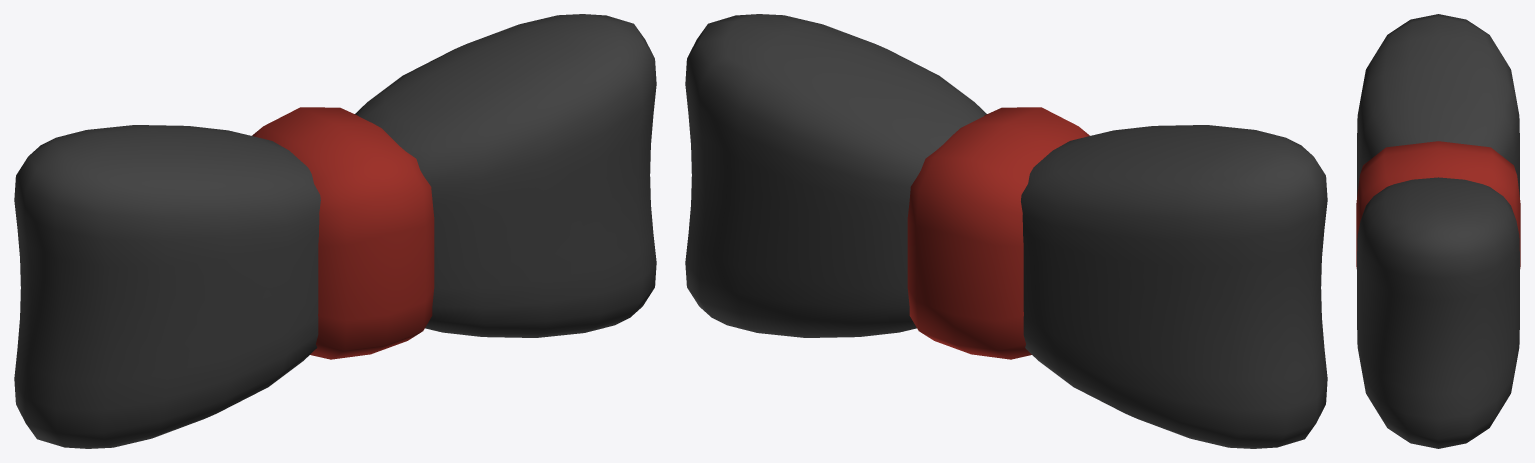
File: bow.fbx
3 renders of one model, left to right at view 1: azimuth 30°, elevation 25°; view 2: azimuth 150°, elevation 25°; view 3: azimuth 270°, elevation 25°, orthographic. The views are drawn at different scales.
Parts seen in each view (by area): view 1: bow; view 2: bow; view 3: bow.
Boxes of the visible parts, <box> form: bow: <box>14,14,656,448</box>; bow: <box>685,14,1327,448</box>; bow: <box>1356,14,1520,448</box>.
Size of the model in its own units: 118 by 52.03 by 34.71.
